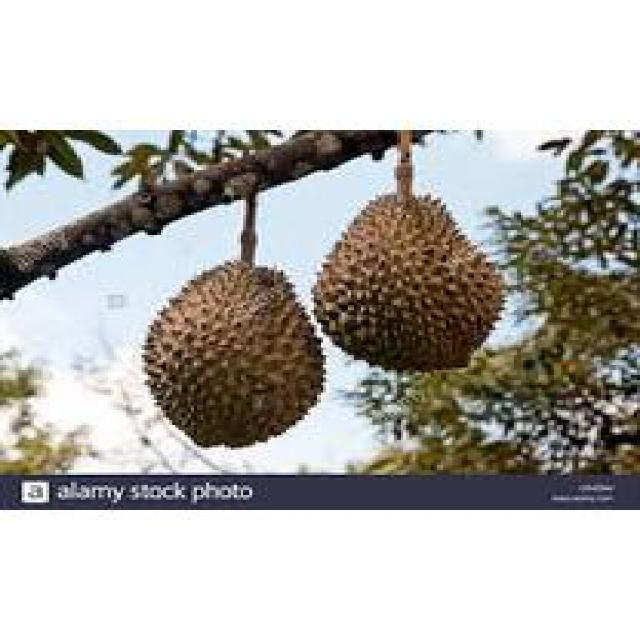fruit: (283, 158, 532, 402), (114, 230, 354, 468)
